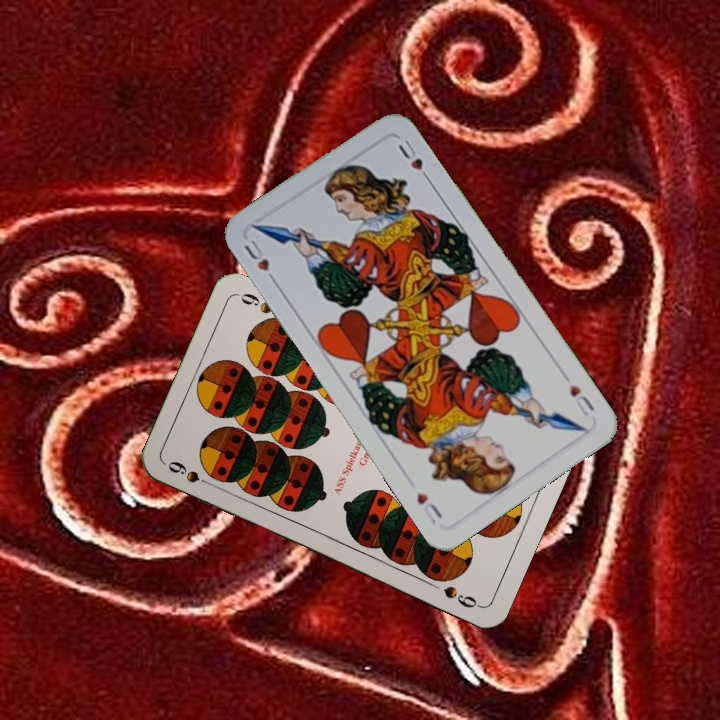HU: (240, 235, 280, 288), (565, 380, 598, 419)
S9: (163, 457, 219, 490)
